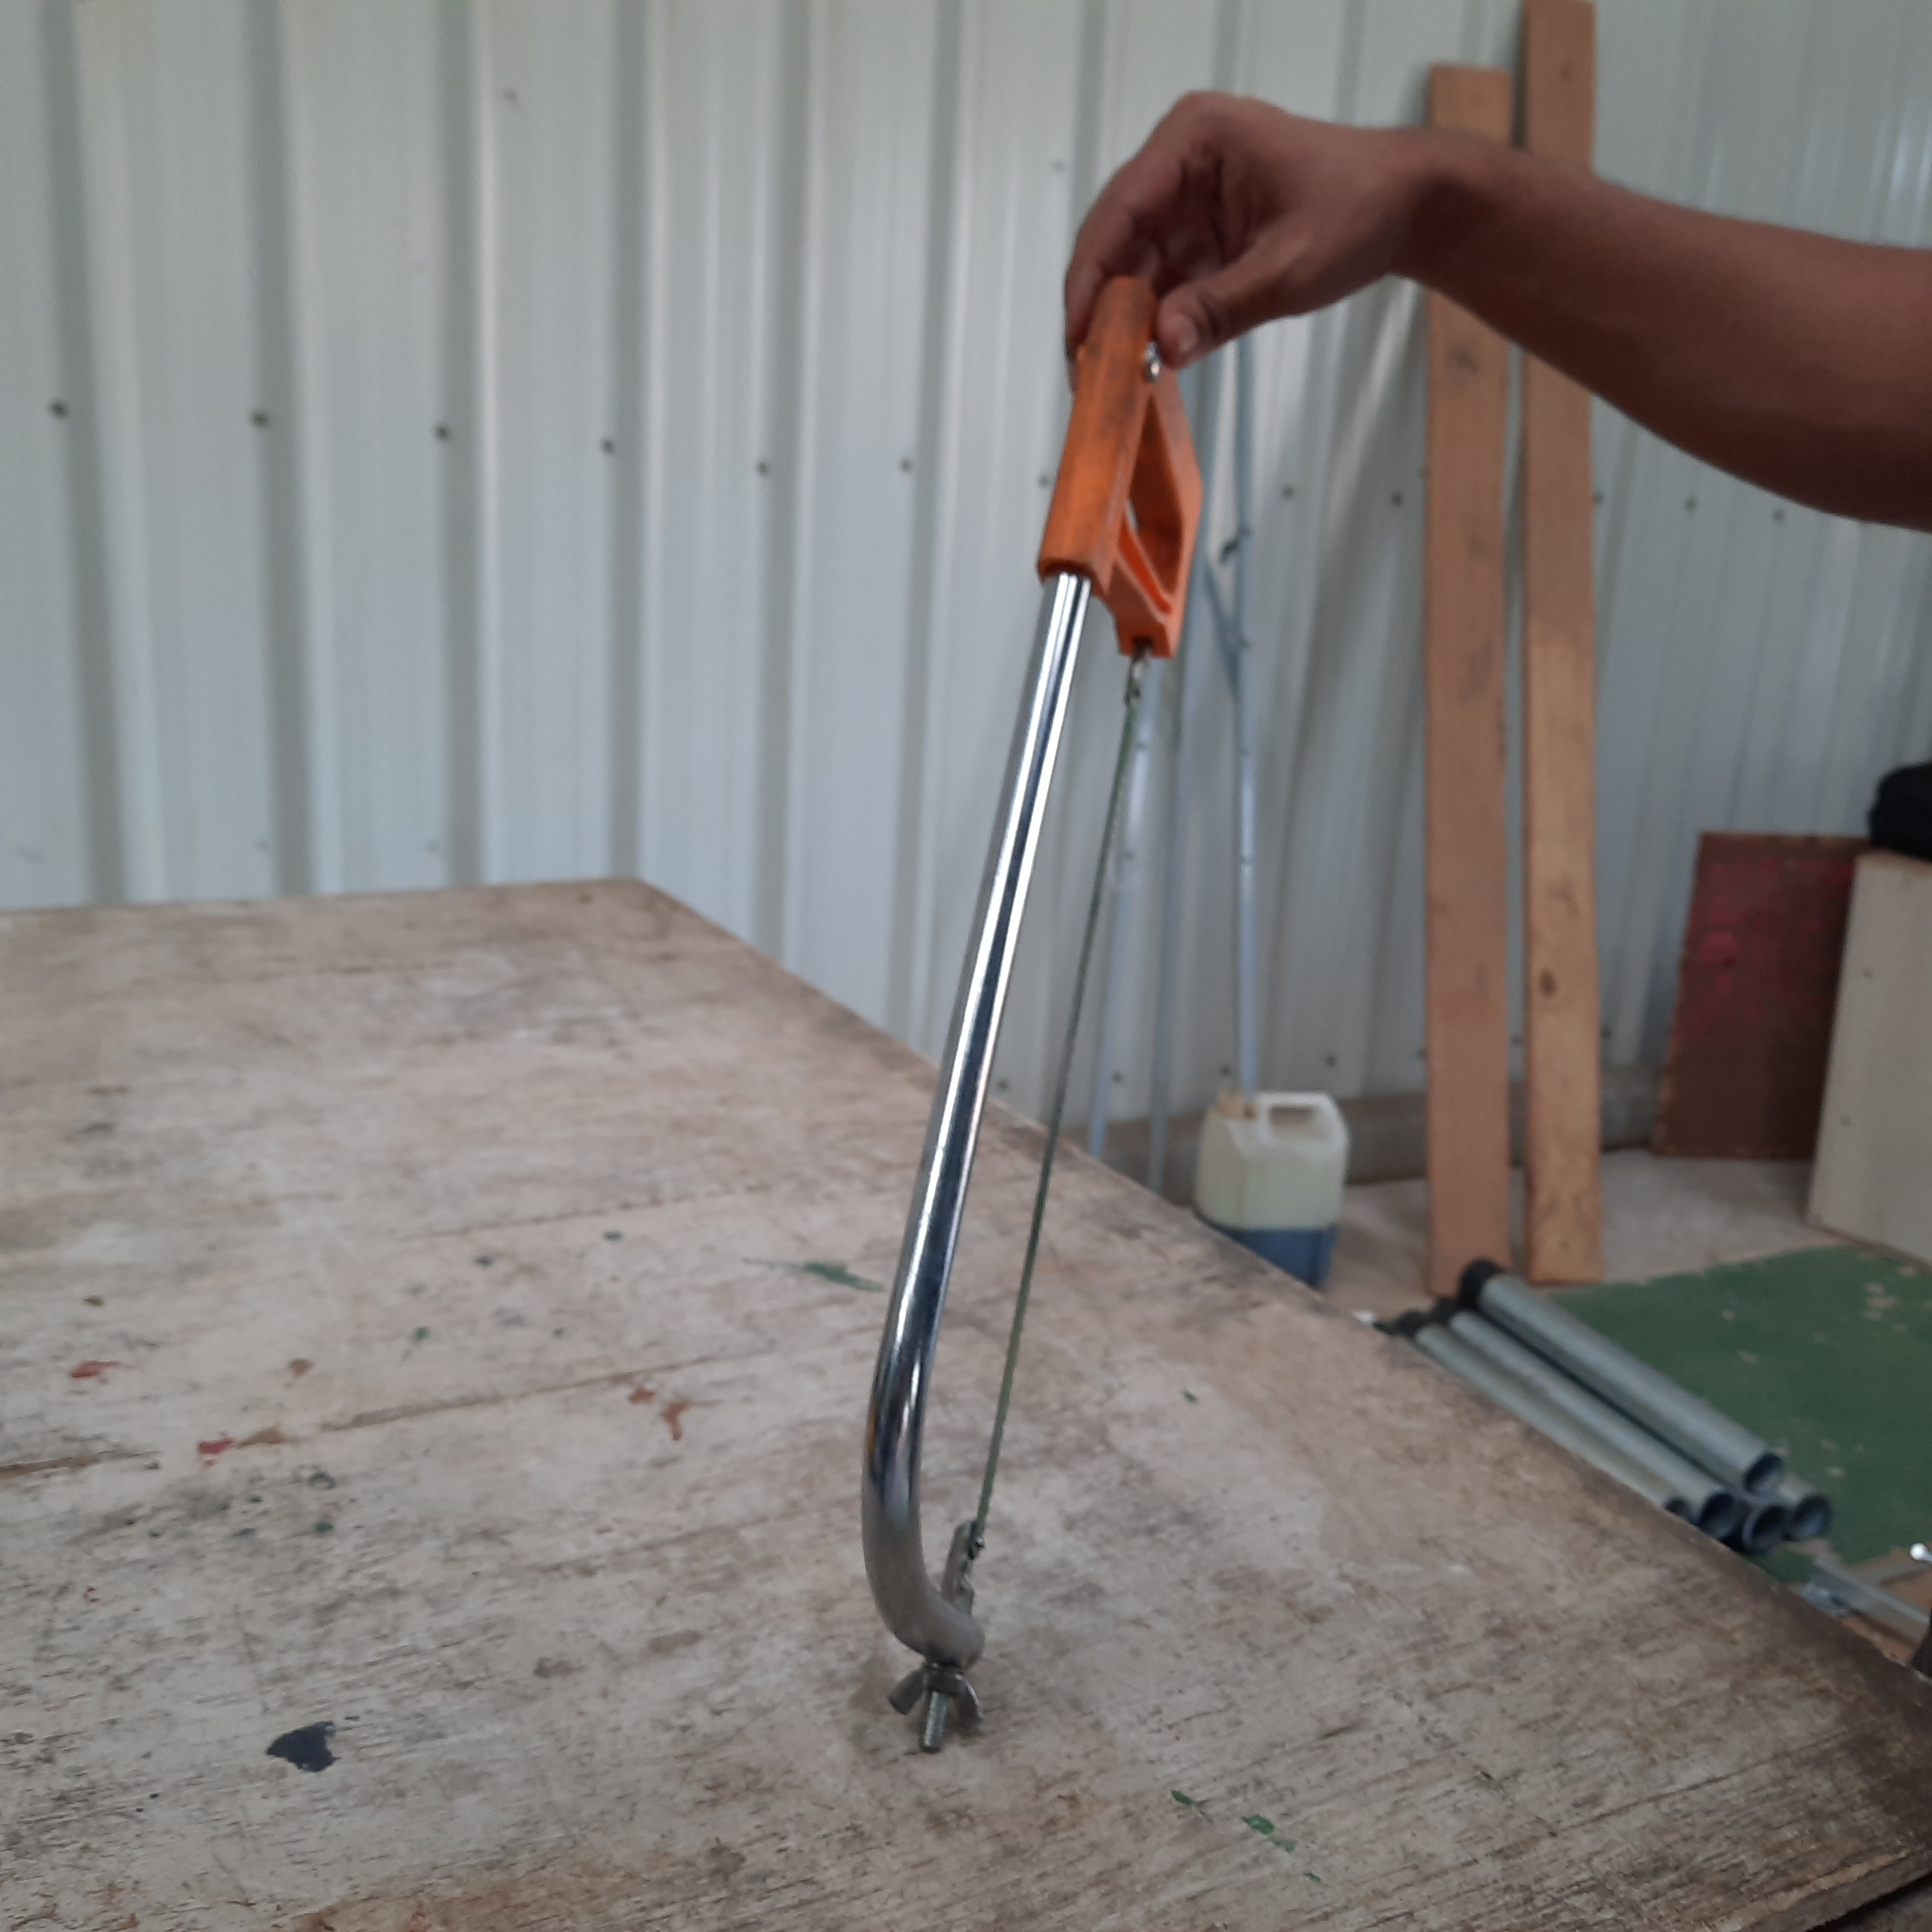Hexaframe: (835, 253, 1290, 1858)
